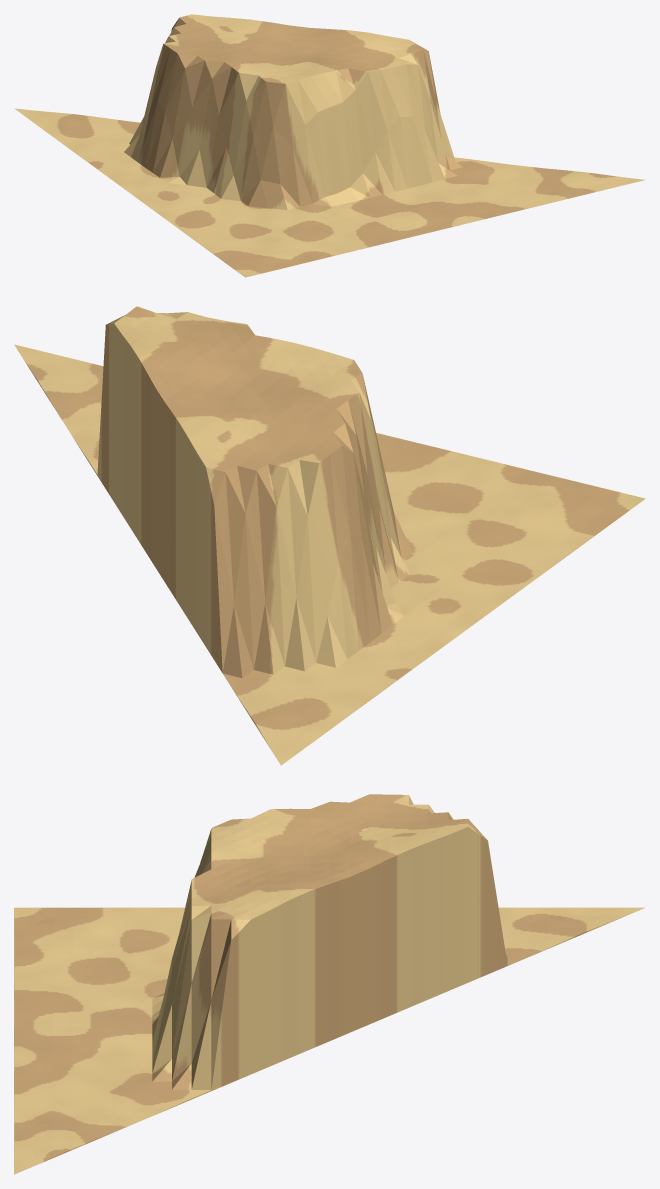
The model's file is Desert_Mountains_09_NW.obj.
3 renders of one model, top to bottom at view 1: azimuth 30°, elevation 25°; view 2: azimuth 150°, elevation 25°; view 3: azimuth 270°, elevation 25°, orthographic. The views are drawn at different scales.
Size of the model in its own units: 10 by 2.77 by 10.
Materials: 1 (1 with a texture image).
